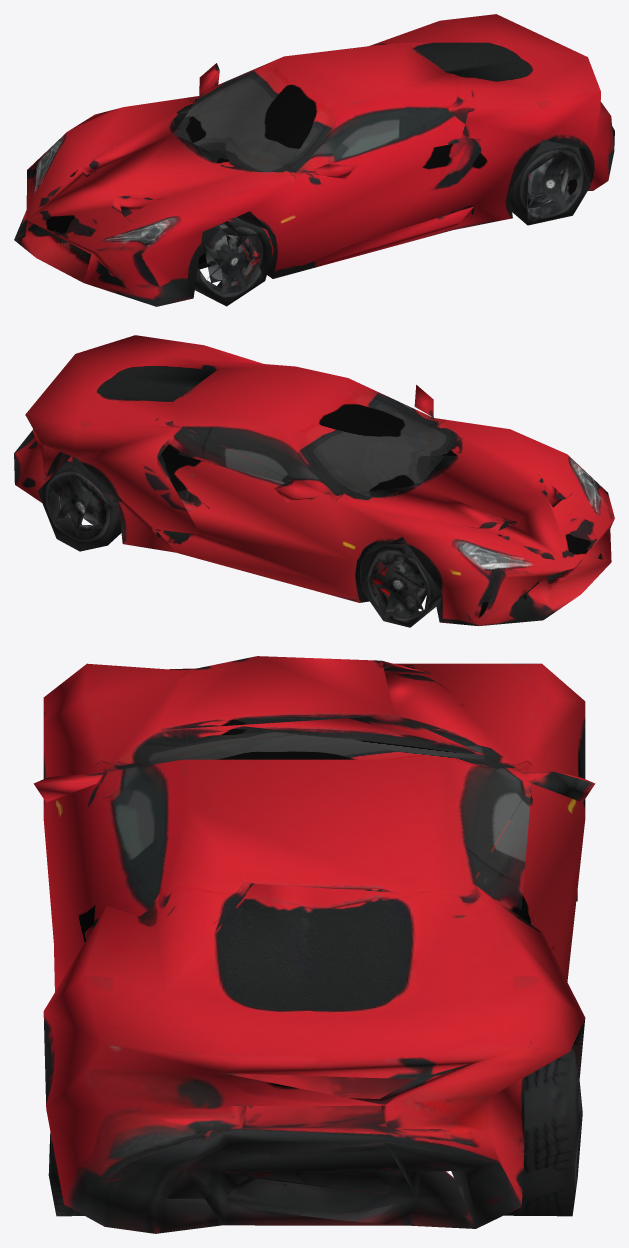
File: gen3_car.glb
3 renders of one model, top to bottom at view 1: azimuth 30°, elevation 25°; view 2: azimuth 150°, elevation 25°; view 3: azimuth 270°, elevation 25°, orthographic. The views are drawn at different scales.
Visible parts, largest first — view 1: Mesh1.0; view 2: Mesh1.0; view 3: Mesh1.0.
Part boxes in pixels (<box>): Mesh1.0: <box>14,14,614,306</box>; Mesh1.0: <box>14,335,614,627</box>; Mesh1.0: <box>33,656,595,1233</box>.
Size of the model in its own units: 1.88 by 0.4814 by 0.865.
Materials: 1 (1 with a texture image).
